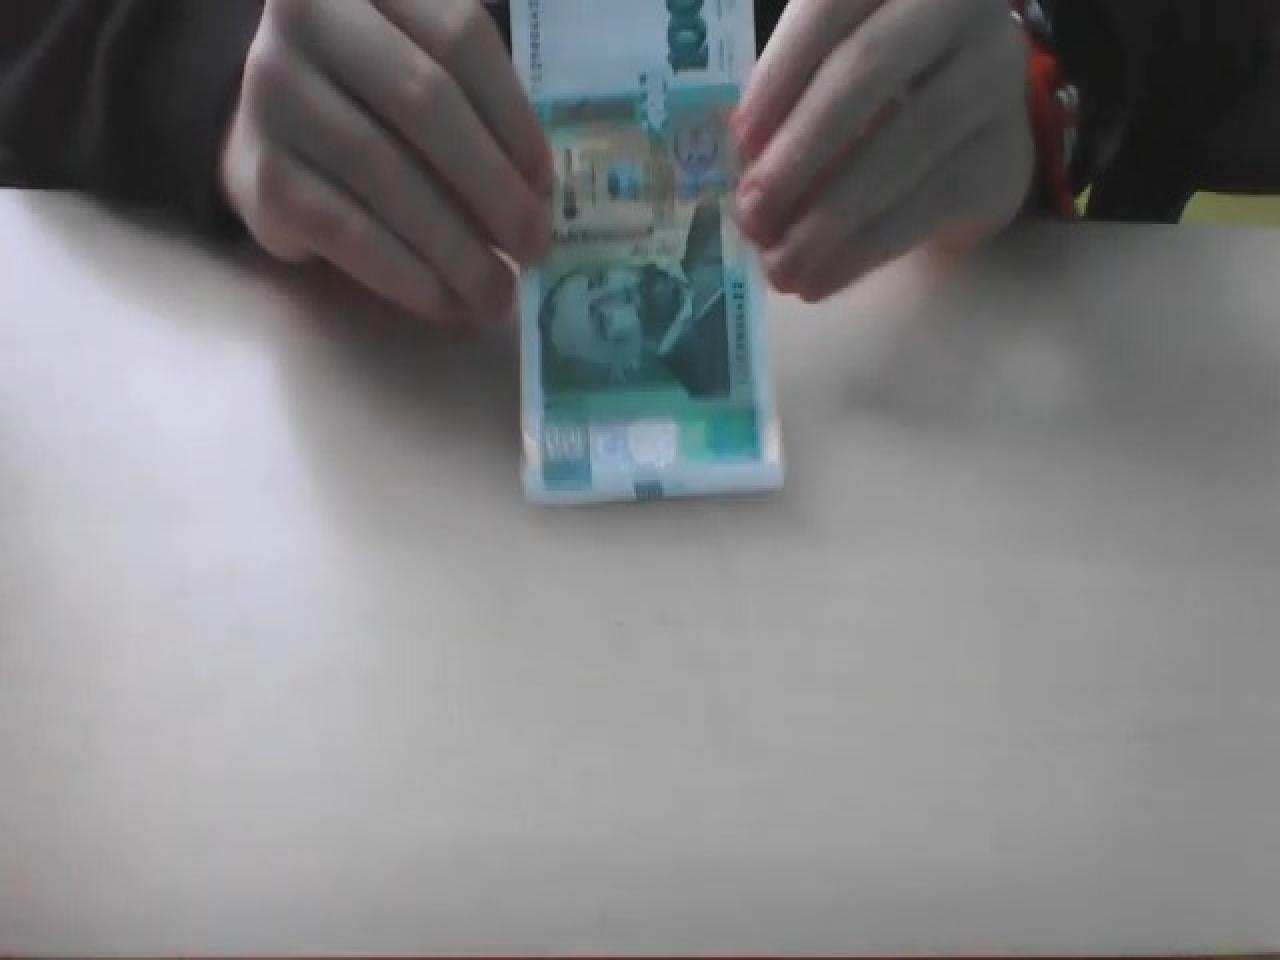100leva: (488, 0, 788, 512)
